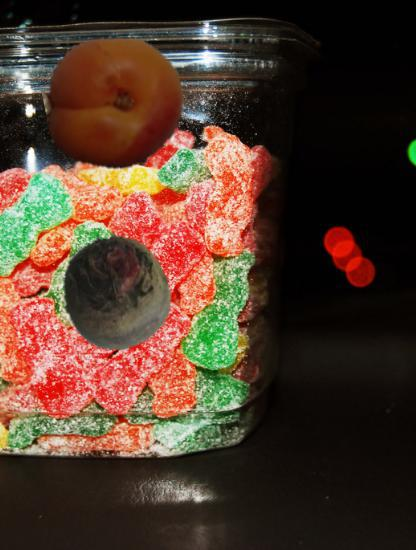Apricot: (45, 34, 184, 173)
Beetroot: (54, 229, 178, 353)
